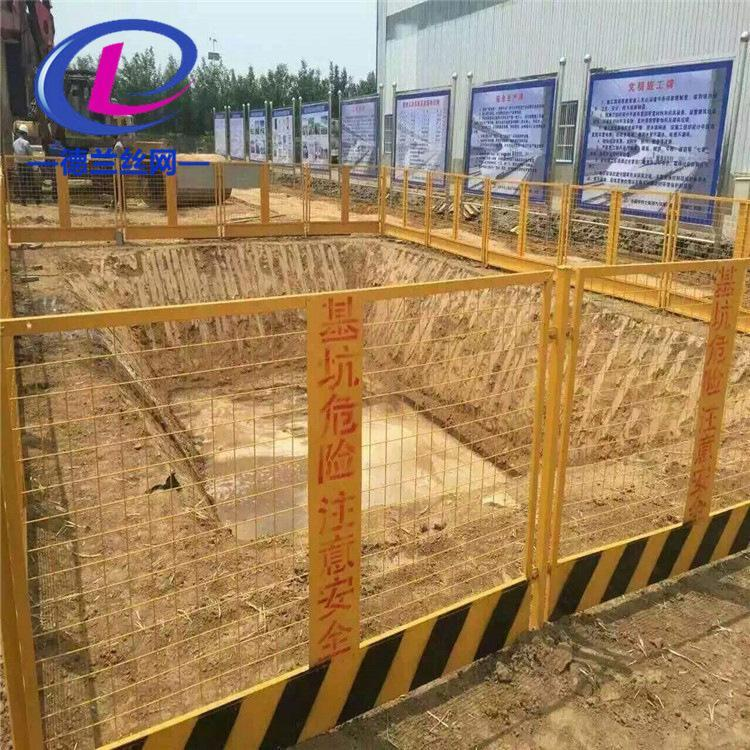sign: (8, 242, 729, 735)
